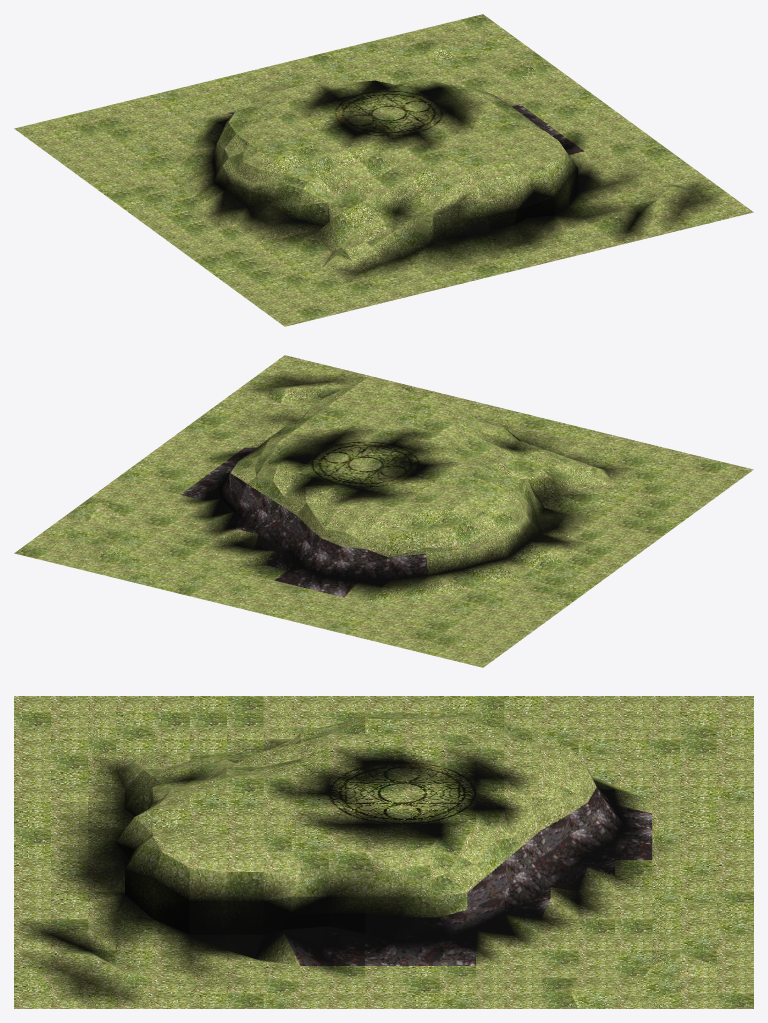
Rendered from EnvironmentInitial1.glb.
The picture shows the model from 3 angles, top to bottom: view 1: azimuth 30°, elevation 25°; view 2: azimuth 150°, elevation 25°; view 3: azimuth 270°, elevation 25°; orthographic projection. The views are drawn at different scales.
Visible parts, largest first — view 1: Floor; view 2: Floor; view 3: Floor.
Boxes of the visible parts, x1,y1,x2,y2 form: Floor: (14, 14, 753, 326); Floor: (14, 355, 753, 667); Floor: (14, 696, 753, 1008).
Size of the model in its own units: 20 by 2.25 by 20.
Materials: 1 (1 with a texture image).
